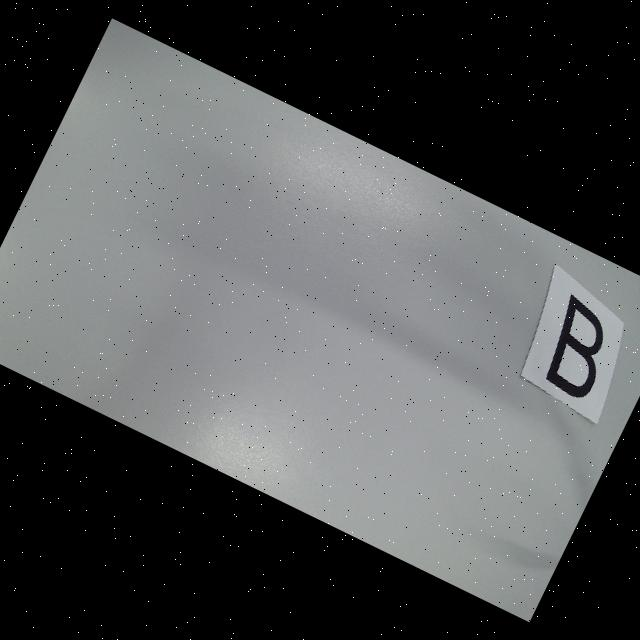FAKE: (530, 293, 624, 402)
